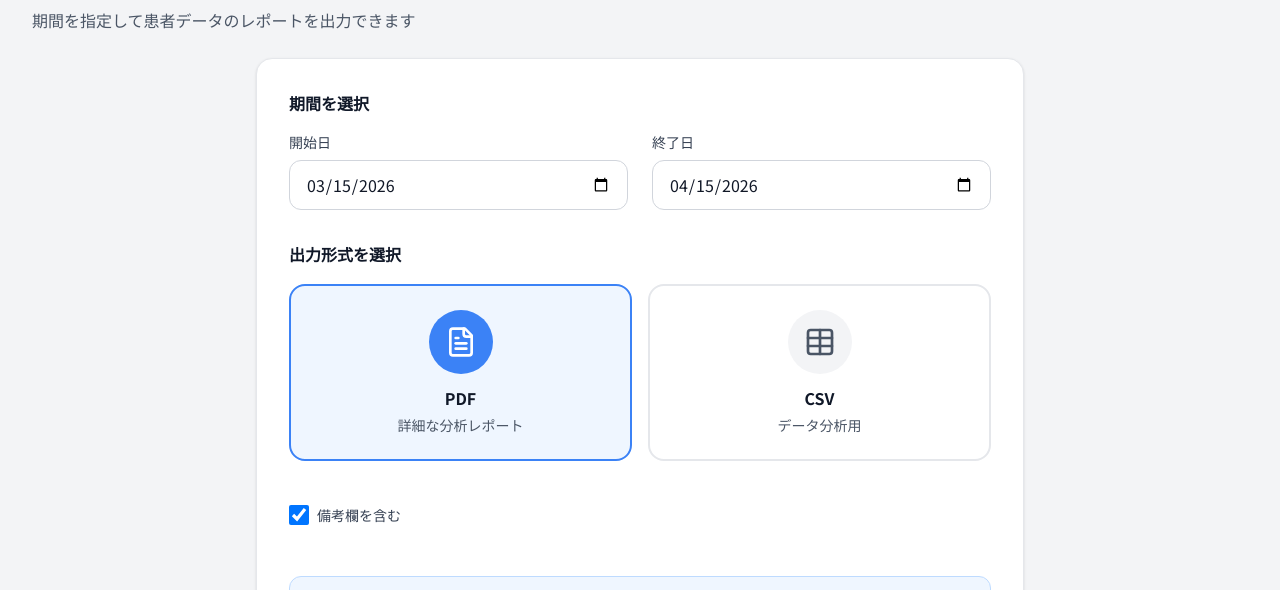
Test case: S-07 ReportGeneration › date range selection › should validate end date is after start date
The image size is (1280, 590).
Type "2026-01-20" into the date field labelled "開始日".
click(458, 185); type("2026-01-20")  # box [289,160,628,210]
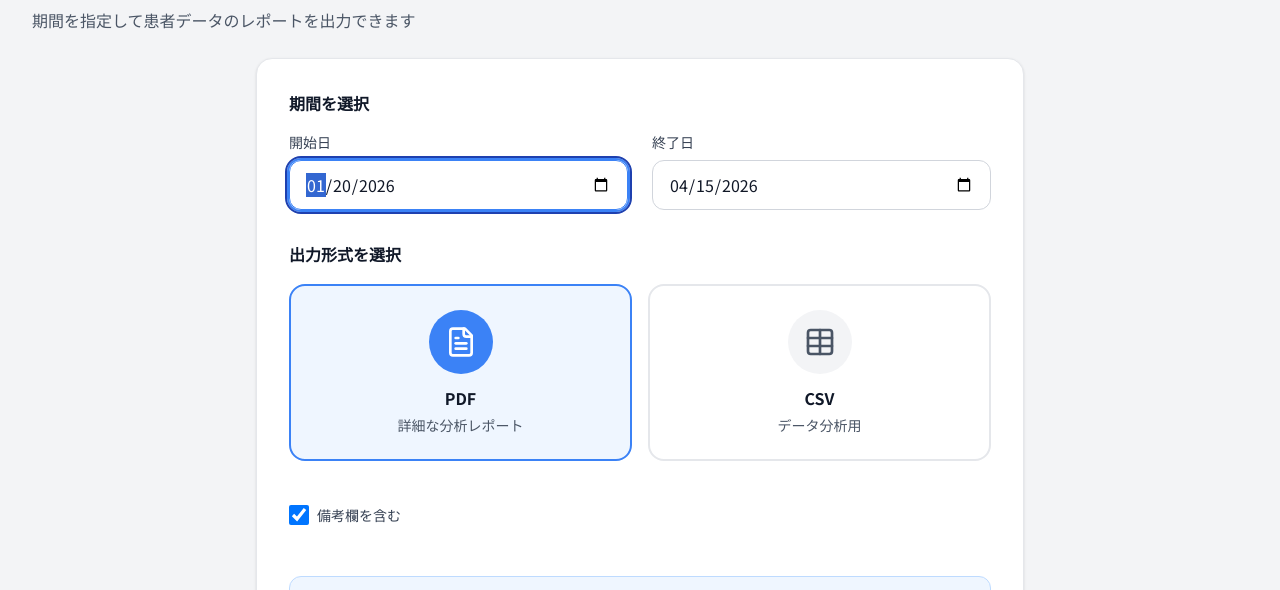
Type "2026-01-10" into the date field labelled "終了日".
click(822, 185); type("2026-01-10")  # box [652,160,991,210]
(page scrolled)
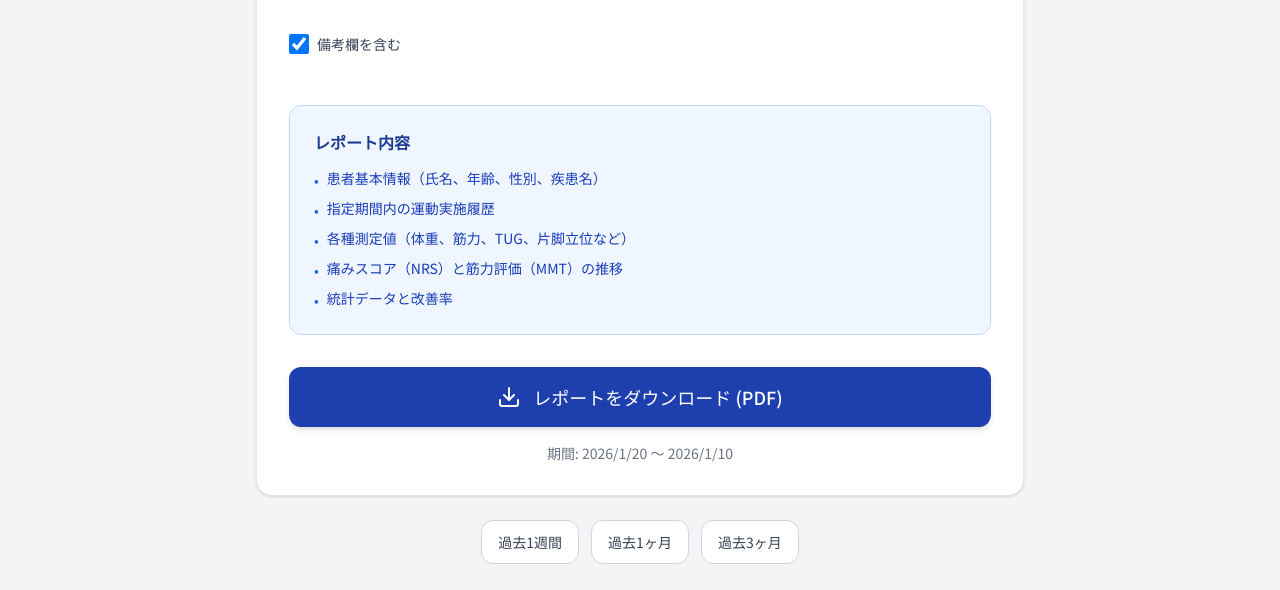
Click the button "レポートをダウンロード (PDF)".
click(640, 397)  # box [289,367,991,427]
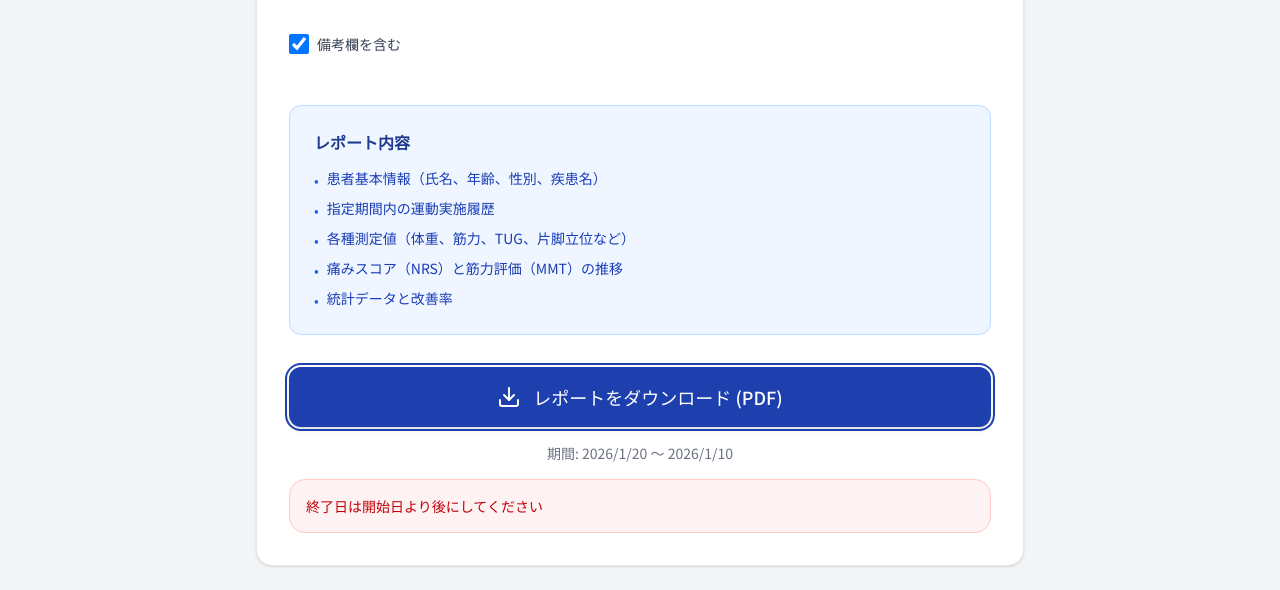
Expected: the text "終了日は開始日より後にしてください" is shown, [306,496,543,516]
